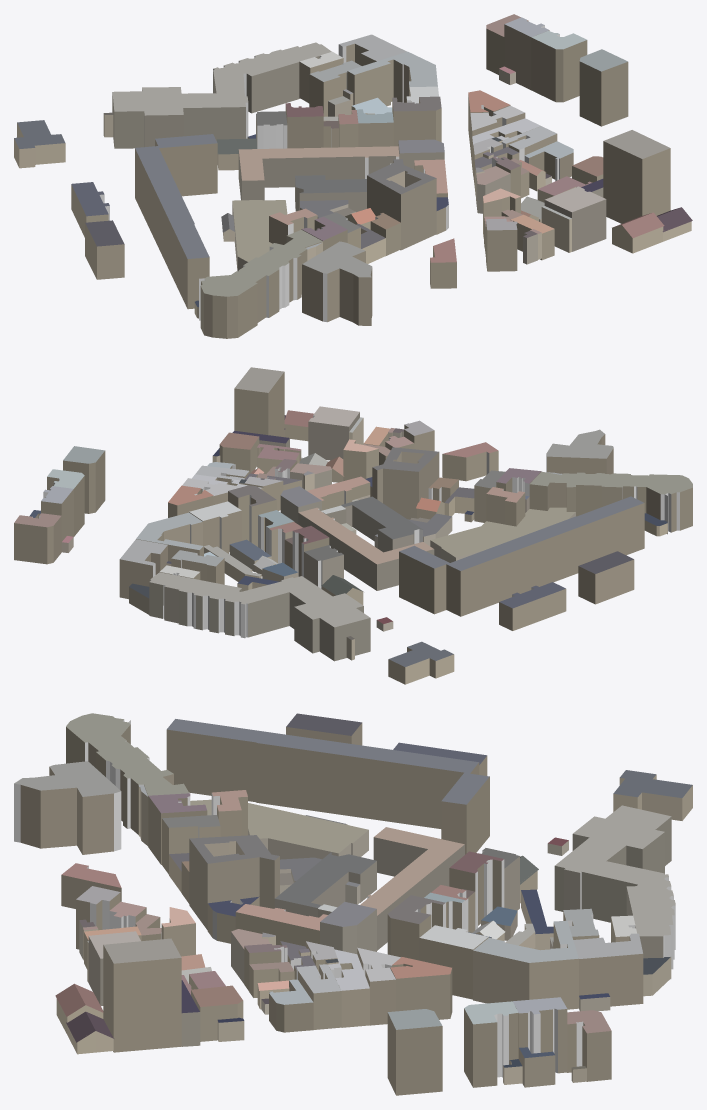
3 views of the same model, one above another, from view 1: azimuth 30°, elevation 25°; view 2: azimuth 150°, elevation 25°; view 3: azimuth 270°, elevation 25° (orthographic). The views are drawn at different scales.
Parts seen in each view (by area): view 1: tuile; view 2: tuile; view 3: tuile.
Part boxes in pixels (x1,y1,x2,y2): tuile: (14, 14, 692, 338); tuile: (14, 367, 692, 684); tuile: (14, 713, 692, 1095).
Bounding box in the file's own units: 261 × 32.41 × 224.
